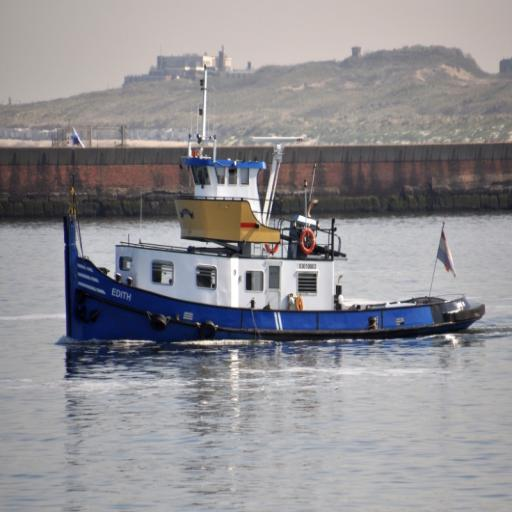tugboat: (58, 63, 489, 363)
